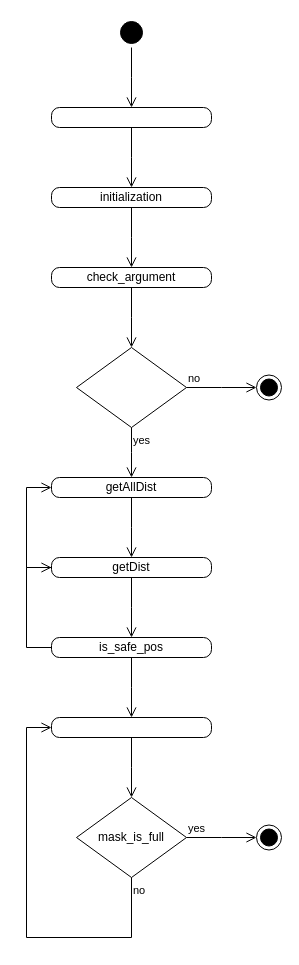
Image size: 299x965. Some labels were removed from this diagram. Each missing label, with the centre of its shape:
find_shortest_path: [131,727]
Node input valid?: [131,387]
tsp: [131,117]
